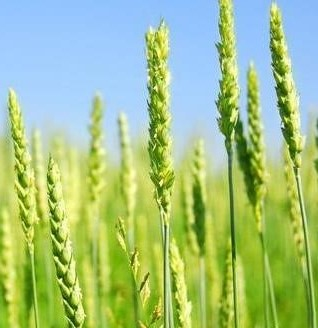Healthy Wheat: (41, 162, 86, 315)
